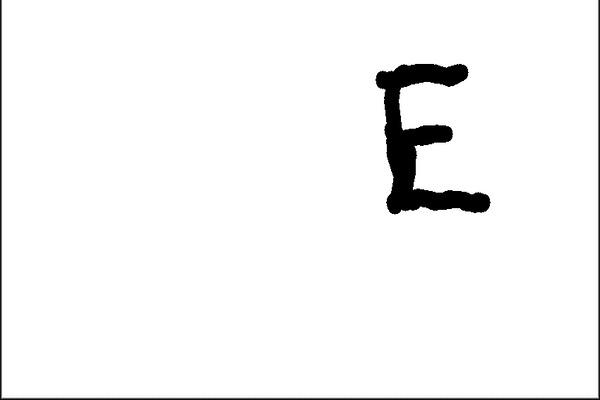E: (369, 59, 496, 220)
